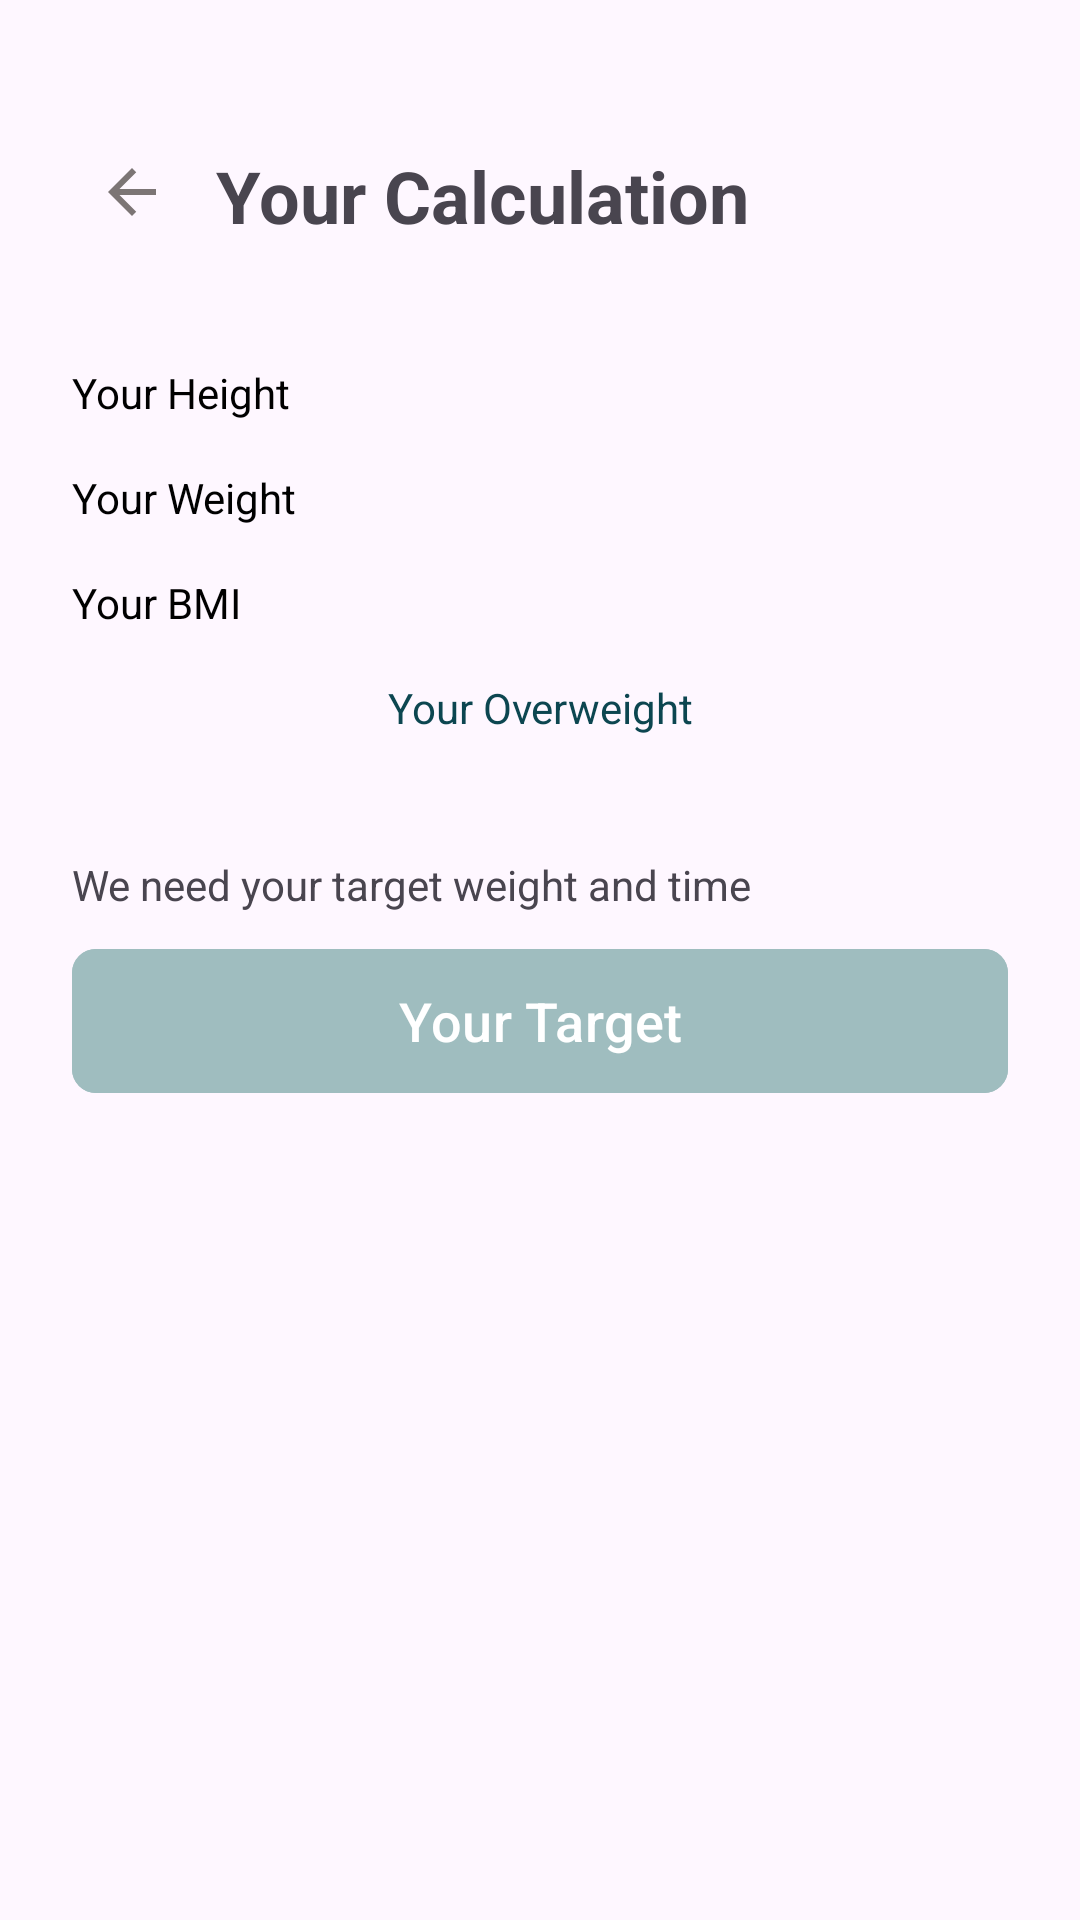

Named icons in this screenshot (1080 x 1920) and their centers, point (x, y):
arrow back: point (132, 192)
